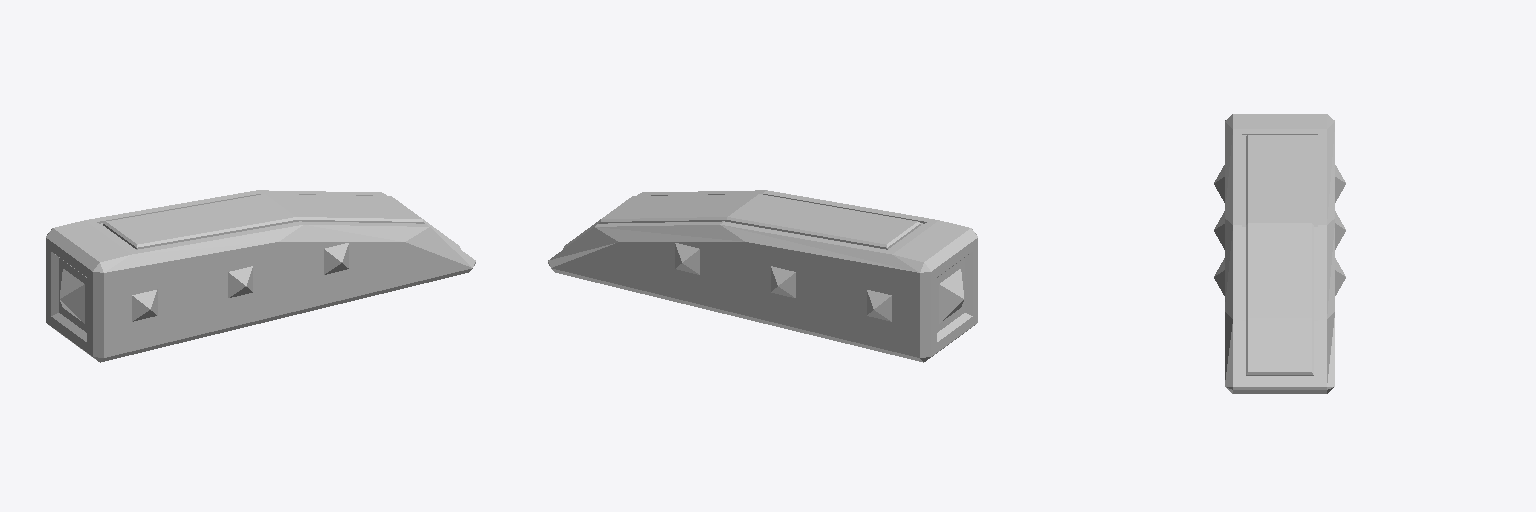
The model's file is IEC XL Slope.obj.
3 renders of one model, left to right at view 1: azimuth 30°, elevation 25°; view 2: azimuth 150°, elevation 25°; view 3: azimuth 270°, elevation 25°, orthographic.
Parts seen in each view (by area): view 1: IEC_XL_Slope_IEC_One_Block_Cube_HS_One_Block.006; view 2: IEC_XL_Slope_IEC_One_Block_Cube_HS_One_Block.006; view 3: IEC_XL_Slope_IEC_One_Block_Cube_HS_One_Block.006.
Boxes of the visible parts, x1=… form: IEC_XL_Slope_IEC_One_Block_Cube_HS_One_Block.006: x1=46, y1=190, x2=475, y2=362; IEC_XL_Slope_IEC_One_Block_Cube_HS_One_Block.006: x1=548, y1=190, x2=977, y2=362; IEC_XL_Slope_IEC_One_Block_Cube_HS_One_Block.006: x1=1214, y1=114, x2=1345, y2=393.
Size of the model in its own units: 4.1 by 1.11 by 1.2.